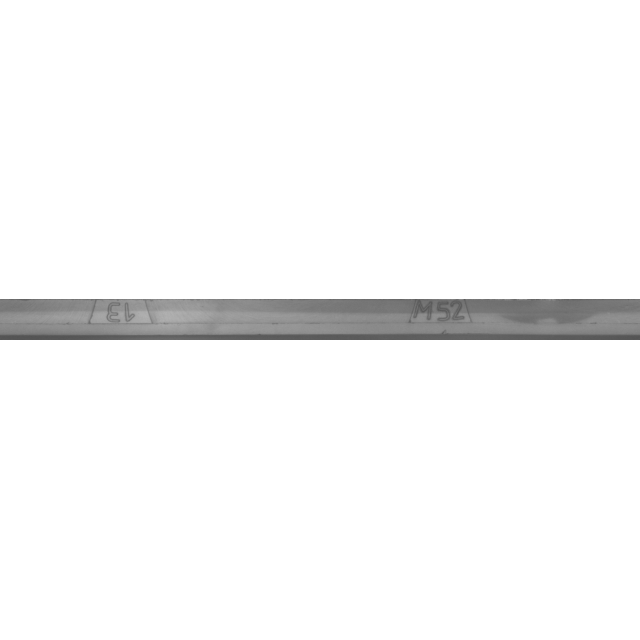mohao: (345, 270, 545, 370)
xuehao: (24, 270, 224, 370)
